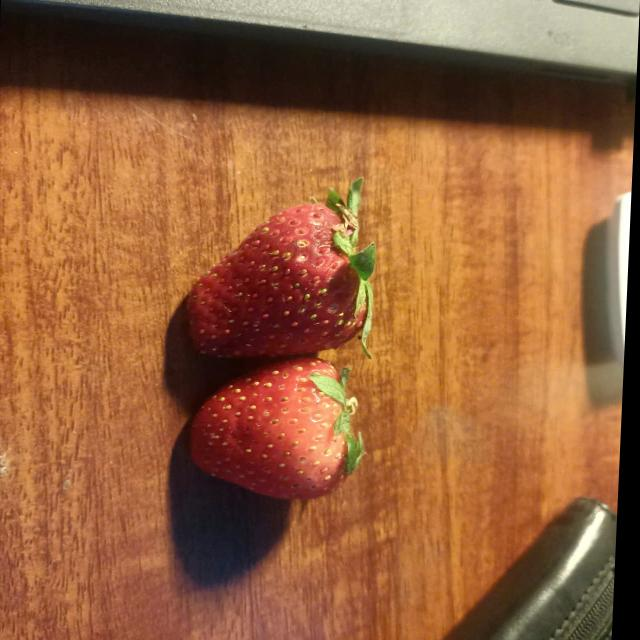DauTay: (171, 168, 393, 373), (180, 355, 384, 512)
